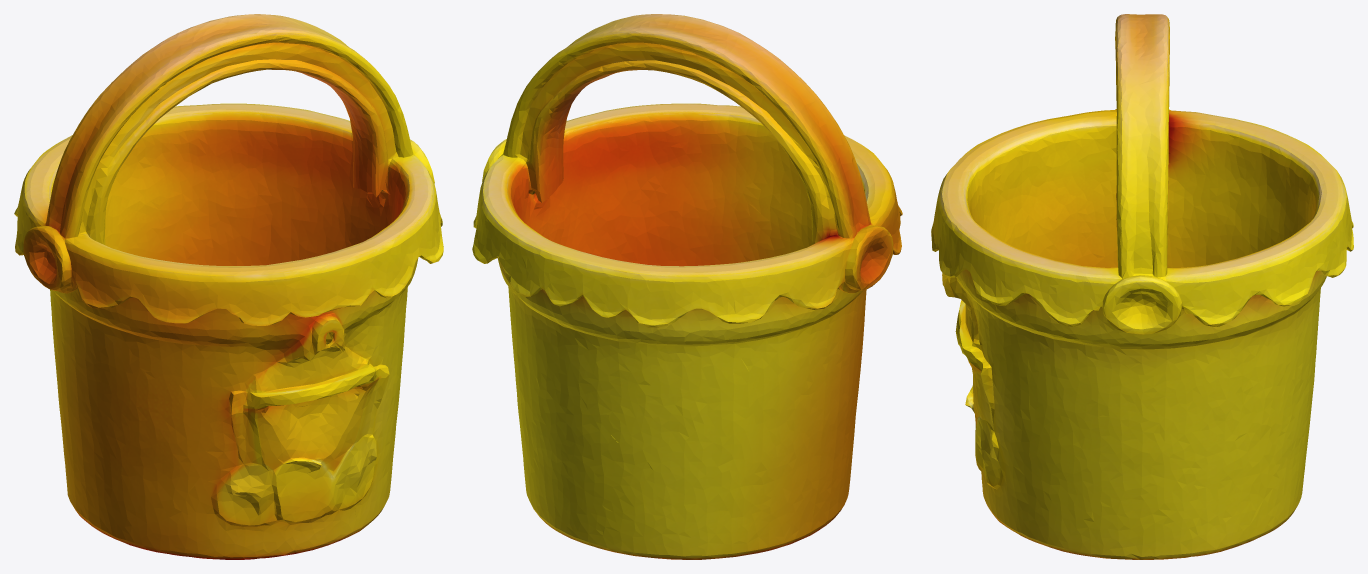
3 views of the same model, side by side, from view 1: azimuth 30°, elevation 25°; view 2: azimuth 150°, elevation 25°; view 3: azimuth 270°, elevation 25° (orthographic).
Visible parts, largest first — view 1: world; view 2: world; view 3: world.
Part boxes in pixels (x1,y1,x2,y2): world: (14,14,443,559); world: (472,14,902,559); world: (931,14,1353,559).
Bounding box in the file's own units: 0.8298 × 0.9933 × 0.8209.
1 material, 1 textured.
